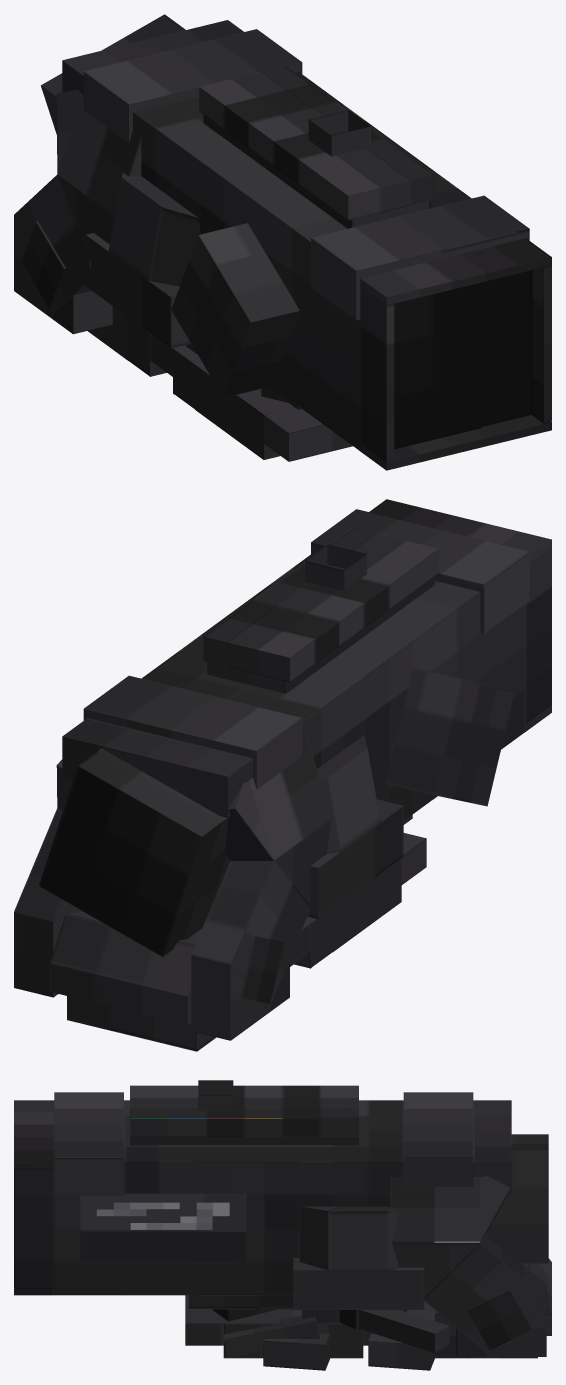
The model's file is specter.fbx.
3 views of the same model, one above another, from view 1: azimuth 30°, elevation 25°; view 2: azimuth 150°, elevation 25°; view 3: azimuth 270°, elevation 25° (orthographic). The views are drawn at different scales.
Parts seen in each view (by area): view 1: specter, scopepip, _cb_scope; view 2: specter, _cb_scope; view 3: specter, _cb_scope.
Boxes of the visible parts, box(x1,y1,x2,y2) form: specter: box(14, 14, 551, 470); scopepip: box(394, 270, 532, 449); _cb_scope: box(308, 110, 370, 156); specter: box(14, 499, 551, 1051); _cb_scope: box(305, 544, 366, 590); specter: box(14, 1085, 551, 1370); _cb_scope: box(198, 1080, 233, 1118).
Size of the model in its own units: 43.55 by 49.22 by 96.25.
Materials: 1 (1 with a texture image).
